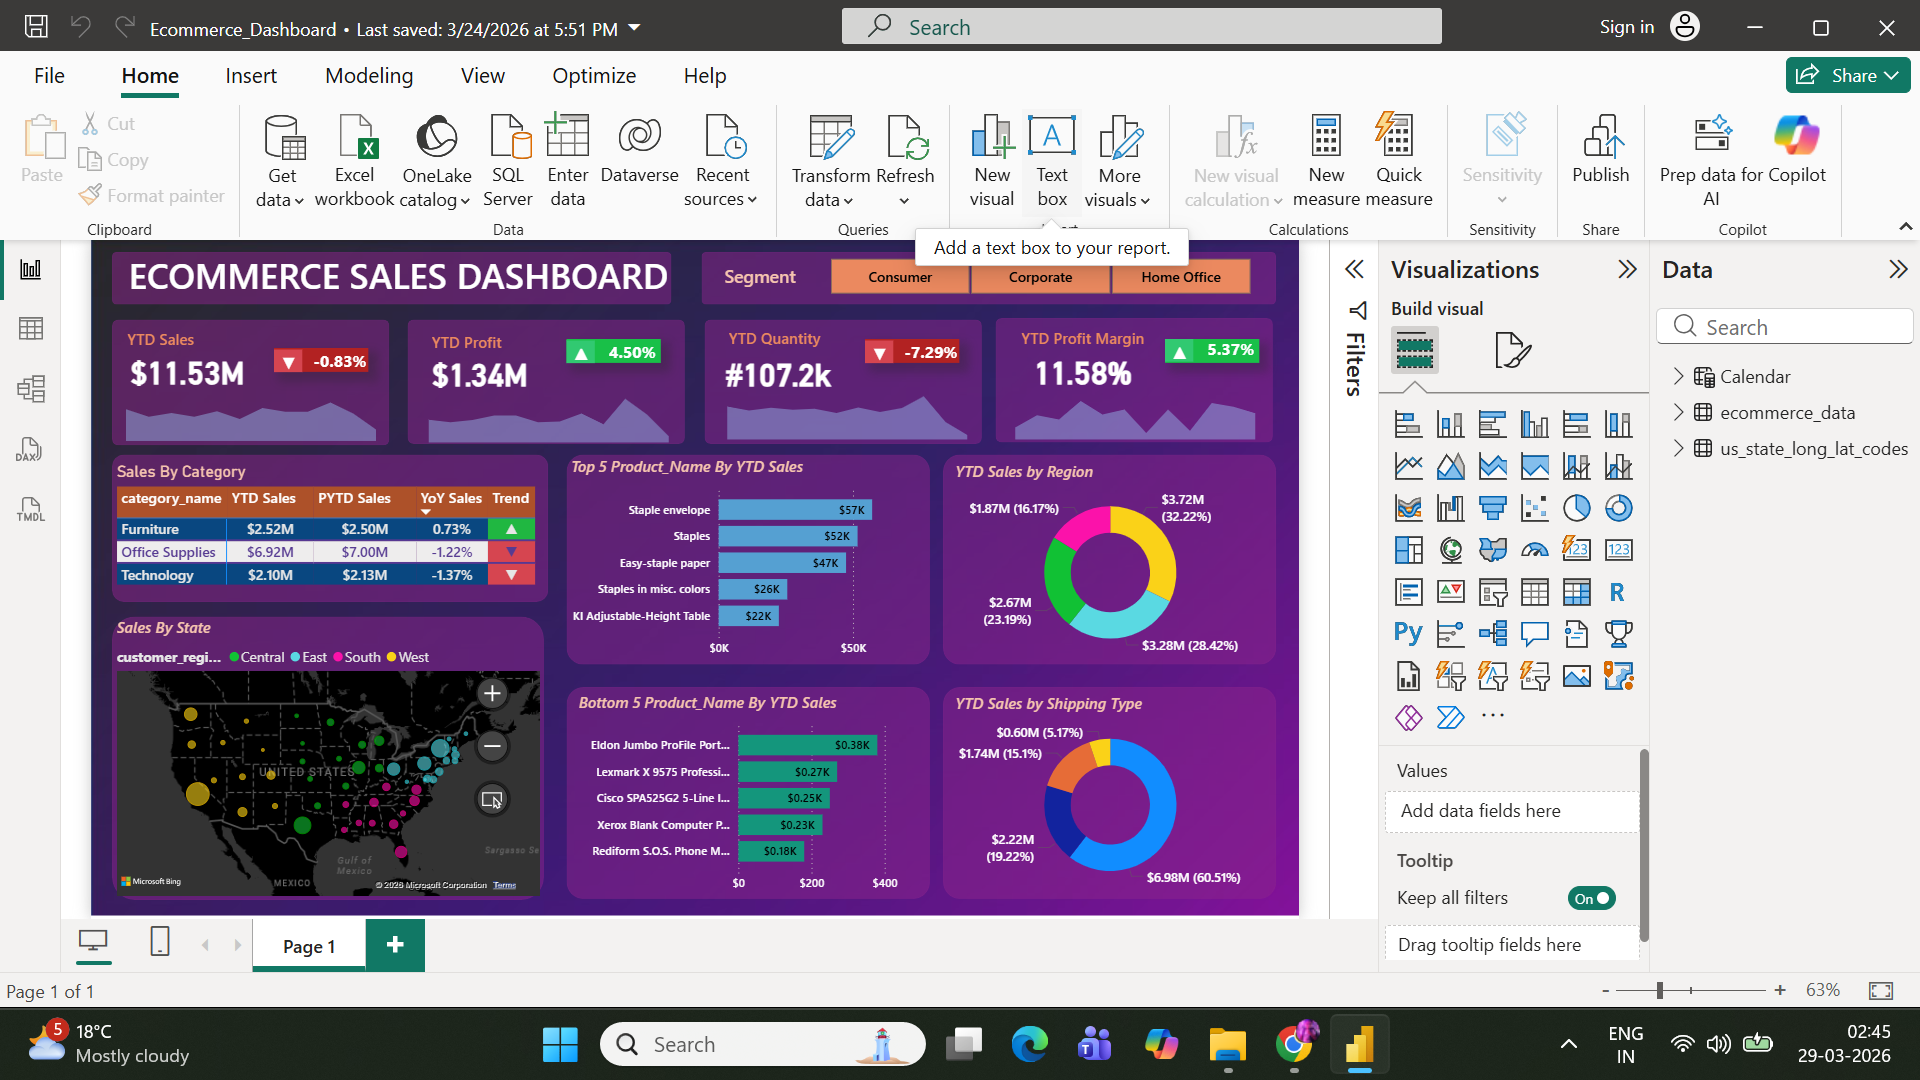

What the dashboard file says about the page in this screenshot:
{"tool":"powerbi","page":{"name":"Page 1","canvas":[1280,720],"ordinal":0},"visuals":[{"type":"shape","box":[22.3,12.7,593.3,55.7],"z":0},{"type":"textbox","box":[22.3,6.4,607.6,62],"z":1000},{"type":"shape","box":[22.3,84.3,294.3,133.6],"z":2000},{"type":"shape","box":[903.3,226.8,353.4,223],"z":3000},{"type":"shape","box":[647.4,12.7,609.2,55.7],"z":4000},{"type":"shape","box":[22.3,228.1,462.7,156.3],"z":5000},{"type":"shape","box":[903.3,474.3,353.4,224.9],"z":6000},{"type":"shape","box":[504.6,226.8,385.5,223],"z":7000},{"type":"shape","box":[22.3,399.2,458.1,300.6],"z":8000},{"type":"shape","box":[194.1,114.5,100.2,25.4],"z":9000},{"type":"card","fields":{"Values":["ecommerce_data.YTD Sales"]},"box":[33.4,114.5,136.8,47.7],"z":10000},{"type":"areaChart","fields":{"Category":["Calendar.Month"],"Y":["Sum(ecommerce_data.sales_per_order)"]},"box":[22.3,151.1,294.3,66.8],"z":11000},{"type":"kpi","fields":{"Indicator":["ecommerce_data.YoY Sales"],"TrendLine":["Calendar.Year"]},"box":[233.8,114.5,60.4,27],"z":12000},{"type":"card","fields":{"Values":["ecommerce_data.Sales Icon"]},"box":[194.1,116.1,30.2,23.9],"z":13000},{"type":"textbox","box":[33.4,89.1,101.8,39.8],"z":14000},{"type":"shape","box":[335.4,84.3,294.3,132],"z":15000},{"type":"shape","box":[504.6,105,100.2,25.4],"z":16000},{"type":"card","fields":{"Values":["ecommerce_data.YTD Profit"]},"box":[343.9,116.7,136.8,47.7],"z":17000},{"type":"areaChart","fields":{"Category":["Calendar.Month"],"Y":["Sum(ecommerce_data.profit_per_order)"]},"box":[344,152.8,283.1,66.8],"z":18000},{"type":"kpi","fields":{"TrendLine":["Calendar.Year"],"Indicator":["ecommerce_data.YoY Profit"]},"box":[544.3,105,60.4,27],"z":19000},{"type":"card","fields":{"Values":["ecommerce_data.Profit Icon"]},"box":[504.6,106.6,30.2,23.9],"z":20000},{"type":"textbox","box":[356.3,92.3,90.7,39.8],"z":21000},{"type":"shape","box":[650.8,83.7,294.3,132],"z":22000},{"type":"shape","box":[820,104.4,100.2,25.4],"z":23000},{"type":"card","fields":{"Values":["ecommerce_data.YTD Conacatented Qty"]},"box":[659.4,116.1,136.8,47.7],"z":24000},{"type":"areaChart","fields":{"Category":["Calendar.Month"],"Y":["Sum(ecommerce_data.order_quantity)"]},"box":[660.1,149.5,283.1,66.8],"z":25000},{"type":"kpi","fields":{"TrendLine":["Calendar.Year"],"Indicator":["ecommerce_data.YoY Qty"]},"box":[859.8,104.4,60.4,27],"z":26000},{"type":"card","fields":{"Values":["ecommerce_data.Qty Icon"]},"box":[820,106,30.2,23.9],"z":27000},{"type":"textbox","box":[671.2,87.5,117.7,36.6],"z":28000},{"type":"shape","box":[959.1,82.7,294.3,132],"z":29000},{"type":"shape","box":[1138.9,105,100.2,25.4],"z":30000},{"type":"card","fields":{"Values":["ecommerce_data.YTD Profit Margin"]},"box":[983,114.5,136.8,47.7],"z":31000},{"type":"areaChart","fields":{"Category":["Calendar.Month"],"Y":["ecommerce_data.Profit Margin"]},"box":[965.5,149.5,283.1,66.8],"z":32000},{"type":"kpi","fields":{"TrendLine":["Calendar.Year"],"Indicator":["ecommerce_data.YoY Profit Margin"]},"box":[1178.6,101.8,60.4,27],"z":33000},{"type":"card","fields":{"Values":["ecommerce_data.Profit Margin Icon"]},"box":[1138.9,105,30.2,23.9],"z":34000},{"type":"textbox","box":[981.4,87.5,157.5,36.6],"z":35000},{"type":"pivotTable","title":"Sales By Category","fields":{"Rows":["ecommerce_data.category_name"],"Values":["ecommerce_data.YTD Sales","ecommerce_data.PYTD Sales","ecommerce_data.YoY Sales","ecommerce_data.Sales Icon"]},"box":[22.3,236.1,459.5,148.4],"z":36000},{"type":"map","title":"Sales By State","fields":{"X":["us_state_long_lat_codes.longitude"],"Y":["us_state_long_lat_codes.latitude"],"Series":["ecommerce_data.customer_region"],"Size":["ecommerce_data.YTD Sales"]},"box":[22.3,399.2,458.1,300.6],"z":37000},{"type":"shape","box":[504.6,474.3,385.5,224.9],"z":38000},{"type":"barChart","title":"Top 5 Product_Name By YTD Sales ","fields":{"Category":["ecommerce_data.product_name"],"Y":["ecommerce_data.YTD Sales"]},"box":[504.6,228.7,385.5,221.1],"z":39000},{"type":"barChart","title":"Bottom 5 Product_Name By YTD Sales ","fields":{"Category":["ecommerce_data.product_name"],"Y":["ecommerce_data.YTD Sales"]},"box":[512.1,478.1,378,221.1],"z":40000},{"type":"donutChart","title":"YTD Sales by Region","fields":{"Category":["ecommerce_data.customer_region"],"Y":["ecommerce_data.YTD Sales"]},"box":[910.9,234.3,338.3,215.4],"z":41000},{"type":"donutChart","title":"YTD Sales by Shipping Type","fields":{"Y":["ecommerce_data.YTD Sales"],"Category":["ecommerce_data.shipping_type"]},"box":[910.9,480,338.3,215.4],"z":42000},{"type":"slicer","fields":{"Values":["ecommerce_data.customer_segment"]},"box":[758.7,12.7,494.7,50.9],"z":43000},{"type":"textbox","box":[660.1,20.7,98.6,35],"z":44000}]}

Visuals, with their boxes on the page's 1280x720 design canvas (x1, y1, x2, y2). These are canvas units, not pixel positions in the 1920x1080 screenshot, which may show the page scaled, cropped or inside an application window:
shape: [22,13,616,68]
textbox: [22,6,630,68]
shape: [22,84,317,218]
shape: [903,227,1257,450]
shape: [647,13,1257,68]
shape: [22,228,485,384]
shape: [903,474,1257,699]
shape: [505,227,890,450]
shape: [22,399,480,700]
shape: [194,114,294,140]
card - ecommerce_data.YTD Sales: [33,114,170,162]
areaChart - Calendar.Month x Sum(ecommerce_data.sales_per_order): [22,151,317,218]
kpi - ecommerce_data.YoY Sales x Calendar.Year: [234,114,294,142]
card - ecommerce_data.Sales Icon: [194,116,224,140]
textbox: [33,89,135,129]
shape: [335,84,630,216]
shape: [505,105,605,130]
card - ecommerce_data.YTD Profit: [344,117,481,164]
areaChart - Calendar.Month x Sum(ecommerce_data.profit_per_order): [344,153,627,220]
kpi - Calendar.Year x ecommerce_data.YoY Profit: [544,105,605,132]
card - ecommerce_data.Profit Icon: [505,107,535,130]
textbox: [356,92,447,132]
shape: [651,84,945,216]
shape: [820,104,920,130]
card - ecommerce_data.YTD Conacatented Qty: [659,116,796,164]
areaChart - Calendar.Month x Sum(ecommerce_data.order_quantity): [660,150,943,216]
kpi - Calendar.Year x ecommerce_data.YoY Qty: [860,104,920,131]
card - ecommerce_data.Qty Icon: [820,106,850,130]
textbox: [671,88,789,124]
shape: [959,83,1253,215]
shape: [1139,105,1239,130]
card - ecommerce_data.YTD Profit Margin: [983,114,1120,162]
areaChart - Calendar.Month x ecommerce_data.Profit Margin: [966,150,1249,216]
kpi - Calendar.Year x ecommerce_data.YoY Profit Margin: [1179,102,1239,129]
card - ecommerce_data.Profit Margin Icon: [1139,105,1169,129]
textbox: [981,88,1139,124]
"Sales By Category" pivotTable: [22,236,482,384]
"Sales By State" map: [22,399,480,700]
shape: [505,474,890,699]
"Top 5 Product_Name By YTD Sales " barChart: [505,229,890,450]
"Bottom 5 Product_Name By YTD Sales " barChart: [512,478,890,699]
"YTD Sales by Region" donutChart: [911,234,1249,450]
"YTD Sales by Shipping Type" donutChart: [911,480,1249,695]
slicer - ecommerce_data.customer_segment: [759,13,1253,64]
textbox: [660,21,759,56]
